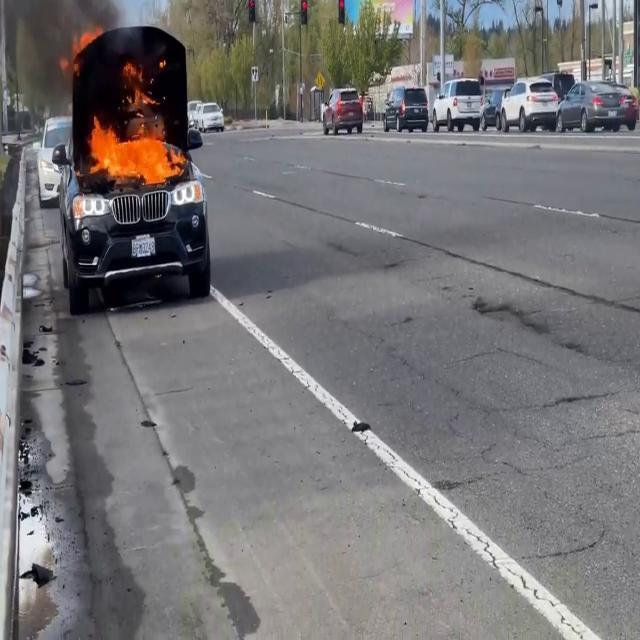Fire: (80, 94, 186, 191)
Smoke: (0, 0, 144, 116)
